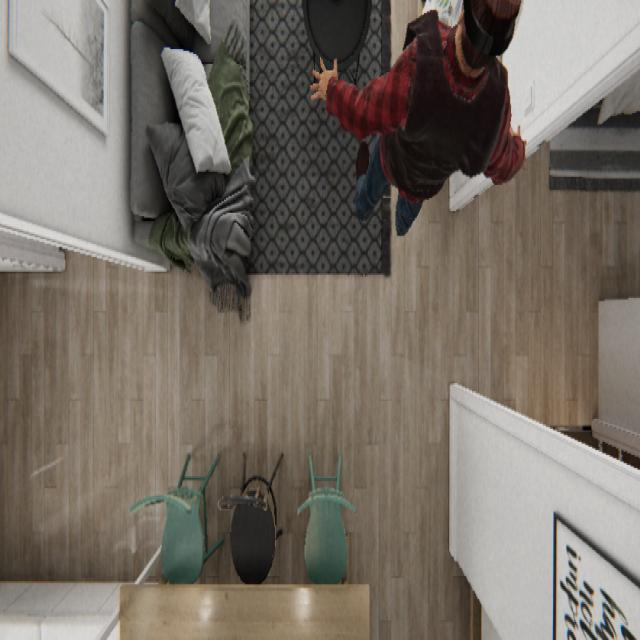Human: (309, 0, 526, 236)
